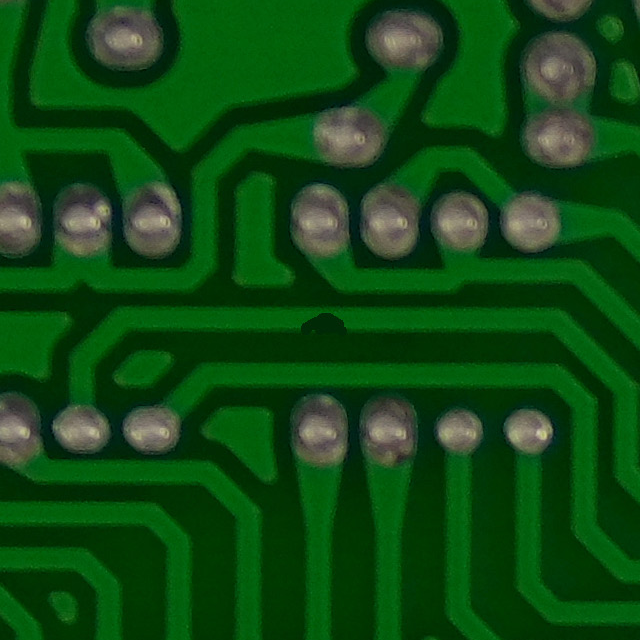mouse_bite: (281, 292, 360, 349)
